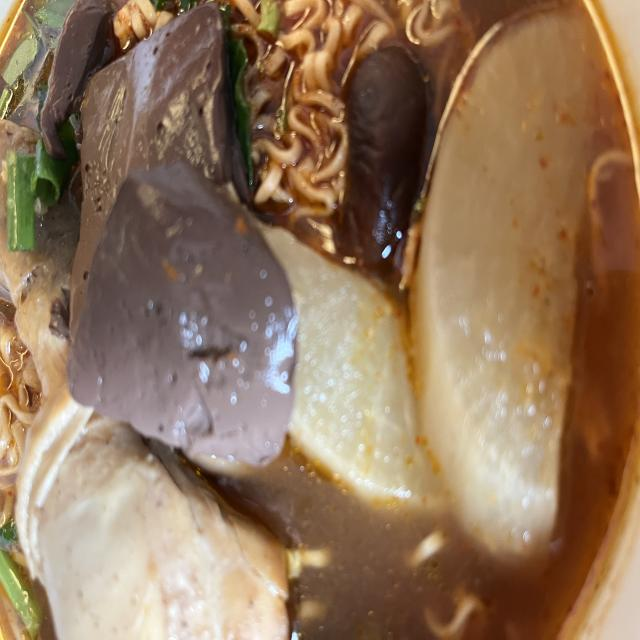boiled_chicken_blood_jelly: (72, 160, 293, 471), (81, 12, 220, 343), (39, 9, 106, 147)
chicken_drumstick: (0, 111, 305, 640)
daikon_radish: (419, 2, 590, 554), (288, 240, 414, 501)
noodle: (0, 0, 640, 640)
